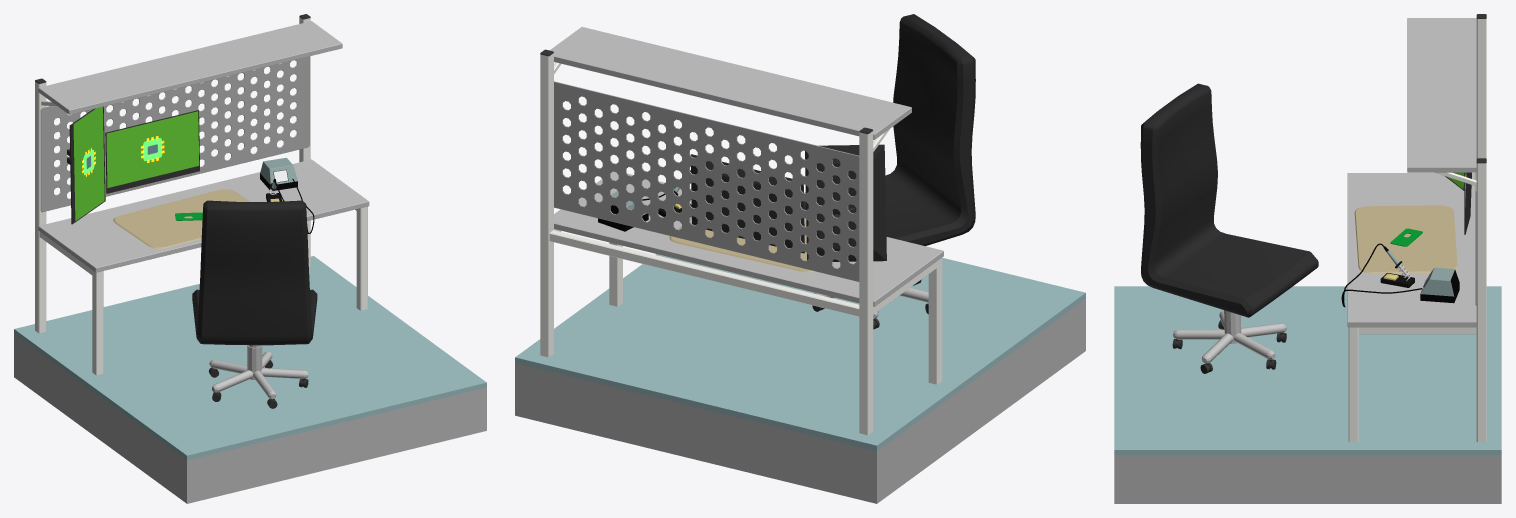
Rendered from Intelliport-3D.gltf.
3 renders of one model, left to right at view 1: azimuth 30°, elevation 25°; view 2: azimuth 150°, elevation 25°; view 3: azimuth 270°, elevation 25°, orthographic. The views are drawn at different scales.
Parts seen in each view (by area): view 1: Base, Chair-Seat, Desk-Modular-Grid, Desk-Shelf, Desk-Top-Main, Desk-Rig, Monitor-Screen, Solder-Mat, Monitor-Screen001, Chair-Legs, Monitor-Body, Monitor-Body001 (+1 smaller); view 2: Base, Desk-Modular-Grid, Chair-Seat, Desk-Rig, Desk-Shelf, Desk-Top-Main, Monitor-Body001, Monitor-Body, Solder-Mat; view 3: Base, Chair-Seat, Desk-Top-Main, Desk-Shelf, Desk-Rig, Solder-Mat, Chair-Legs, Soldering-Station-Upper, Soldering-Station-Lower.
Part boxes in pixels (left/top/right/bottom): Base: left=14, top=256, right=486, bottom=503; Chair-Seat: left=192, top=200, right=317, bottom=345; Desk-Modular-Grid: left=40, top=56, right=309, bottom=212; Desk-Shelf: left=38, top=21, right=342, bottom=114; Desk-Top-Main: left=38, top=159, right=369, bottom=272; Desk-Rig: left=35, top=17, right=367, bottom=375; Monitor-Screen: left=106, top=111, right=199, bottom=187; Solder-Mat: left=113, top=189, right=249, bottom=248; Monitor-Screen001: left=73, top=107, right=104, bottom=220; Chair-Legs: left=209, top=351, right=308, bottom=399; Monitor-Body: left=105, top=110, right=199, bottom=193; Monitor-Body001: left=69, top=106, right=105, bottom=224; Base: left=515, top=254, right=1085, bottom=503; Desk-Modular-Grid: left=554, top=81, right=859, bottom=281; Chair-Seat: left=804, top=14, right=975, bottom=246; Desk-Rig: left=540, top=53, right=942, bottom=435; Desk-Shelf: left=550, top=27, right=911, bottom=139; Desk-Top-Main: left=554, top=171, right=943, bottom=306; Monitor-Body001: left=805, top=144, right=886, bottom=261; Monitor-Body: left=691, top=154, right=804, bottom=253; Solder-Mat: left=669, top=218, right=815, bottom=272; Base: left=1114, top=286, right=1501, bottom=503; Chair-Seat: left=1140, top=83, right=1318, bottom=317; Desk-Top-Main: left=1347, top=173, right=1476, bottom=327; Desk-Shelf: left=1407, top=18, right=1476, bottom=172; Desk-Rig: left=1348, top=19, right=1486, bottom=442; Solder-Mat: left=1354, top=205, right=1457, bottom=273; Chair-Legs: left=1173, top=310, right=1286, bottom=363; Soldering-Station-Upper: left=1420, top=267, right=1454, bottom=296; Soldering-Station-Lower: left=1420, top=269, right=1459, bottom=303.
Bounding box in the file's own units: 1.95 × 1.86 × 1.95.
Materials: 34 (2 with a texture image).
